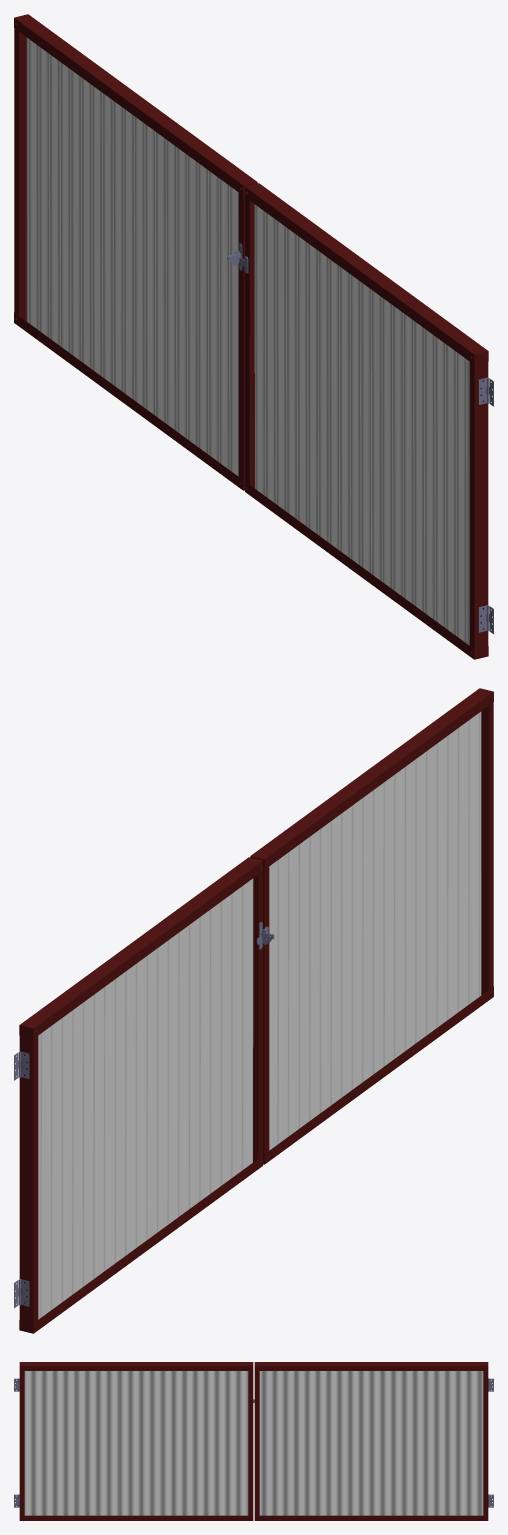
File: GCDG12.glb
3 renders of one model, top to bottom at view 1: azimuth 30°, elevation 25°; view 2: azimuth 150°, elevation 25°; view 3: azimuth 270°, elevation 25°, orthographic. The views are drawn at different scales.
Visible parts, largest first — view 1: GC - GOOD NEIGHBOUR CGI-16 DOUBLE DRIVEWAY GATE - VERTICAL -; view 2: GC - GOOD NEIGHBOUR CGI-16 DOUBLE DRIVEWAY GATE - VERTICAL -; view 3: GC - GOOD NEIGHBOUR CGI-16 DOUBLE DRIVEWAY GATE - VERTICAL -.
Boxes of the visible parts, <box> form: GC - GOOD NEIGHBOUR CGI-16 DOUBLE DRIVEWAY GATE - VERTICAL -: <box>14,14,493,659</box>; GC - GOOD NEIGHBOUR CGI-16 DOUBLE DRIVEWAY GATE - VERTICAL -: <box>14,688,493,1333</box>; GC - GOOD NEIGHBOUR CGI-16 DOUBLE DRIVEWAY GATE - VERTICAL -: <box>14,1362,493,1520</box>.
Size of the model in its own units: 0.1206 by 1.21 by 3.38.
